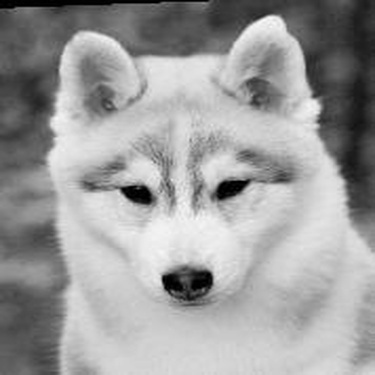dog: (43, 10, 372, 373)
